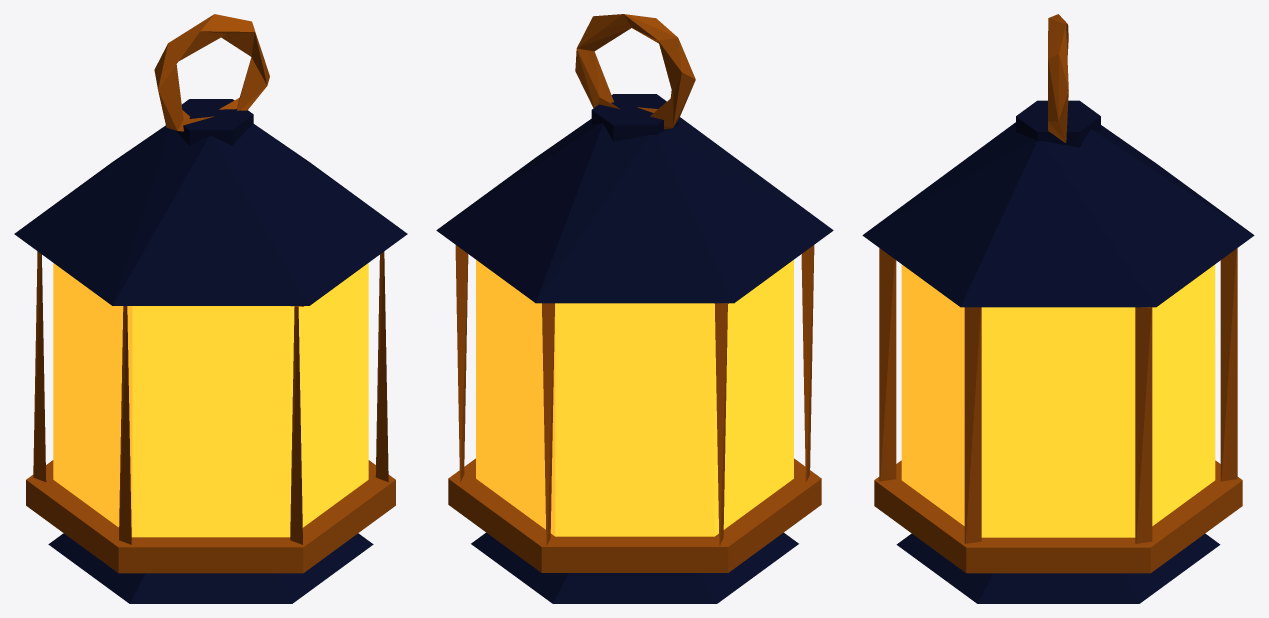
Rendered from tb_lantern.three-web-toon.lod50.glb.
The picture shows the model from 3 angles, left to right: view 1: azimuth 30°, elevation 25°; view 2: azimuth 150°, elevation 25°; view 3: azimuth 270°, elevation 25°; orthographic projection.
Visible parts, largest first — view 1: lantern_body_lod; view 2: lantern_body_lod; view 3: lantern_body_lod.
Part boxes in pixels (bbox=[...]): lantern_body_lod: bbox=[14, 14, 407, 603]; lantern_body_lod: bbox=[436, 14, 833, 603]; lantern_body_lod: bbox=[862, 14, 1254, 603].
Size of the model in its own units: 0.251 by 0.4545 by 0.2898.
